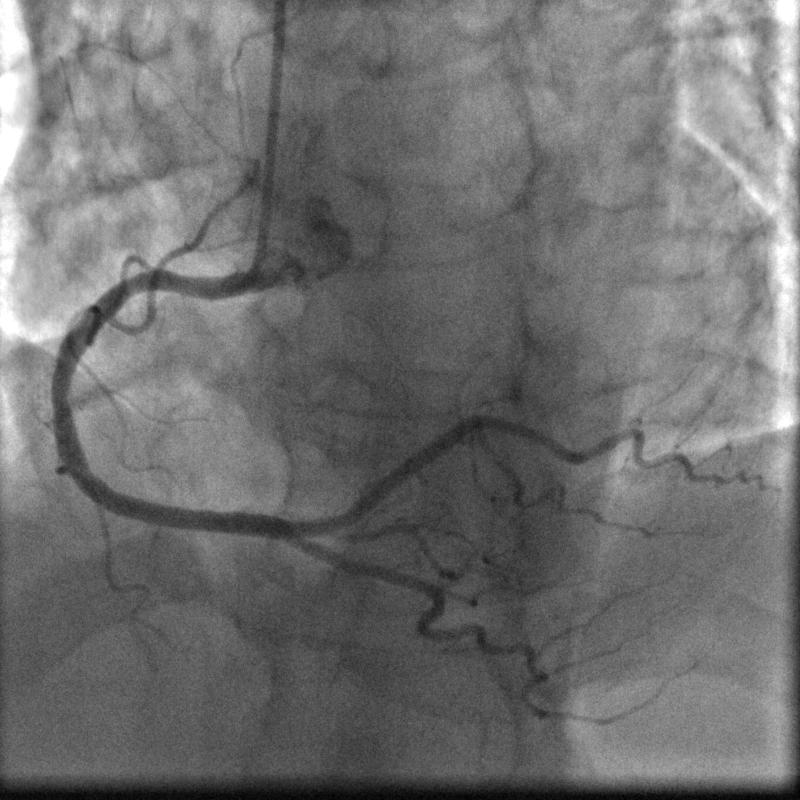Stenosis: (44, 367, 81, 416)
